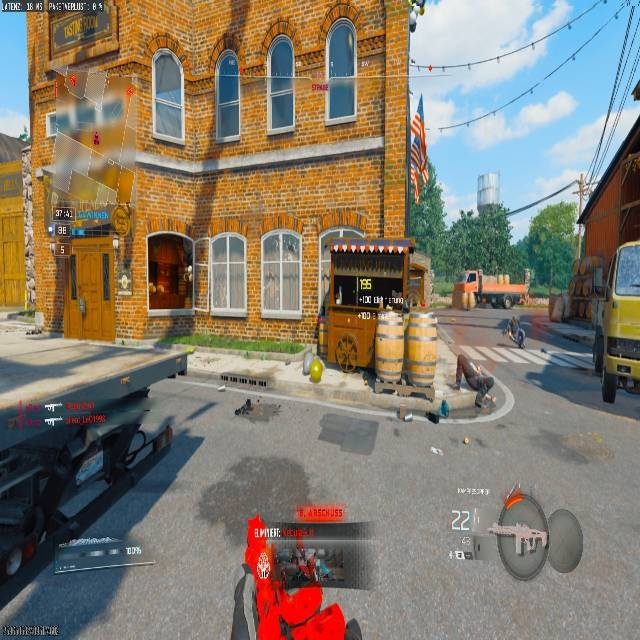player: (507, 316, 526, 349)
